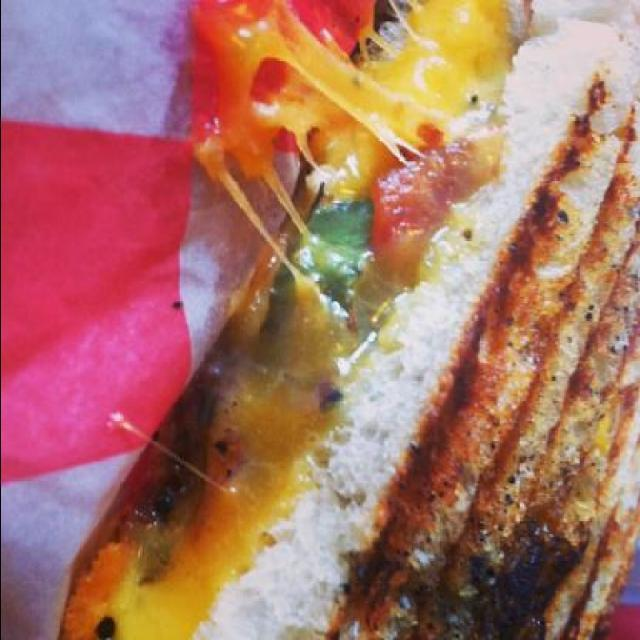Sandwich: (56, 0, 640, 638)
